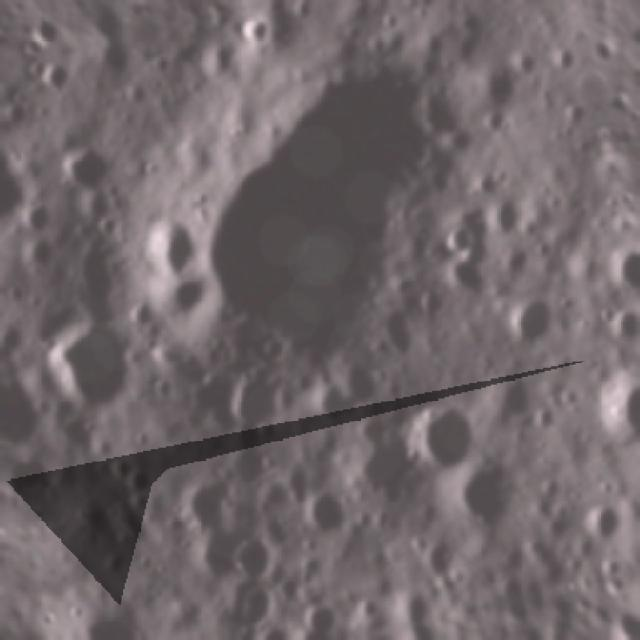crater: (142, 55, 503, 396), (32, 303, 146, 435), (391, 386, 494, 496), (451, 452, 535, 537), (221, 364, 301, 447), (57, 577, 160, 640), (583, 369, 640, 463), (131, 210, 200, 284), (0, 132, 42, 246), (150, 272, 218, 339), (501, 287, 565, 358), (169, 474, 236, 540), (296, 481, 356, 550), (51, 140, 117, 198), (188, 529, 252, 588), (484, 369, 542, 433), (226, 580, 283, 640), (572, 499, 632, 555), (300, 381, 357, 439), (409, 537, 463, 594), (476, 194, 530, 248), (330, 357, 382, 412), (70, 499, 118, 555), (228, 534, 278, 586), (192, 42, 242, 93), (473, 67, 522, 119), (295, 597, 353, 640), (598, 299, 640, 356), (222, 450, 270, 495), (248, 606, 310, 640), (469, 106, 517, 148), (237, 12, 285, 54), (20, 199, 62, 246), (41, 53, 82, 101), (390, 592, 433, 630), (252, 335, 293, 371), (444, 222, 478, 262), (548, 44, 584, 81), (0, 99, 34, 132), (124, 80, 156, 111), (286, 0, 316, 25), (487, 0, 524, 14), (110, 637, 172, 640), (0, 78, 3, 114)
